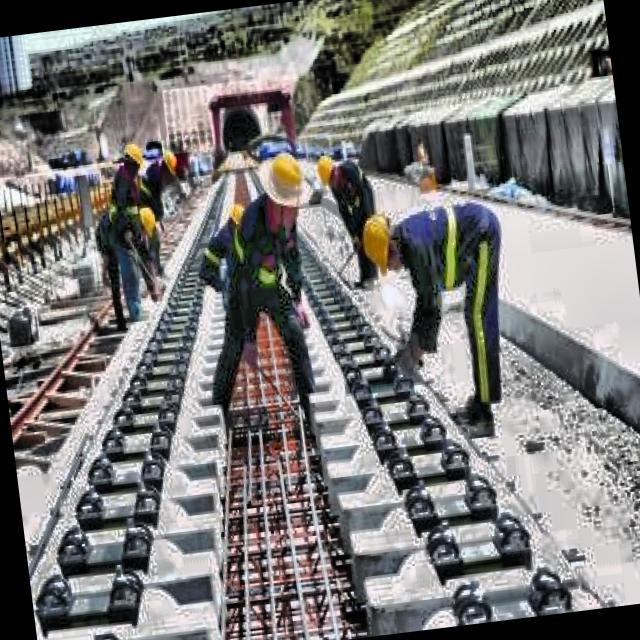helmet: (355, 207, 403, 278), (260, 148, 310, 212), (311, 146, 348, 204), (114, 136, 152, 188), (127, 200, 165, 247), (152, 143, 182, 188), (225, 197, 255, 240)
